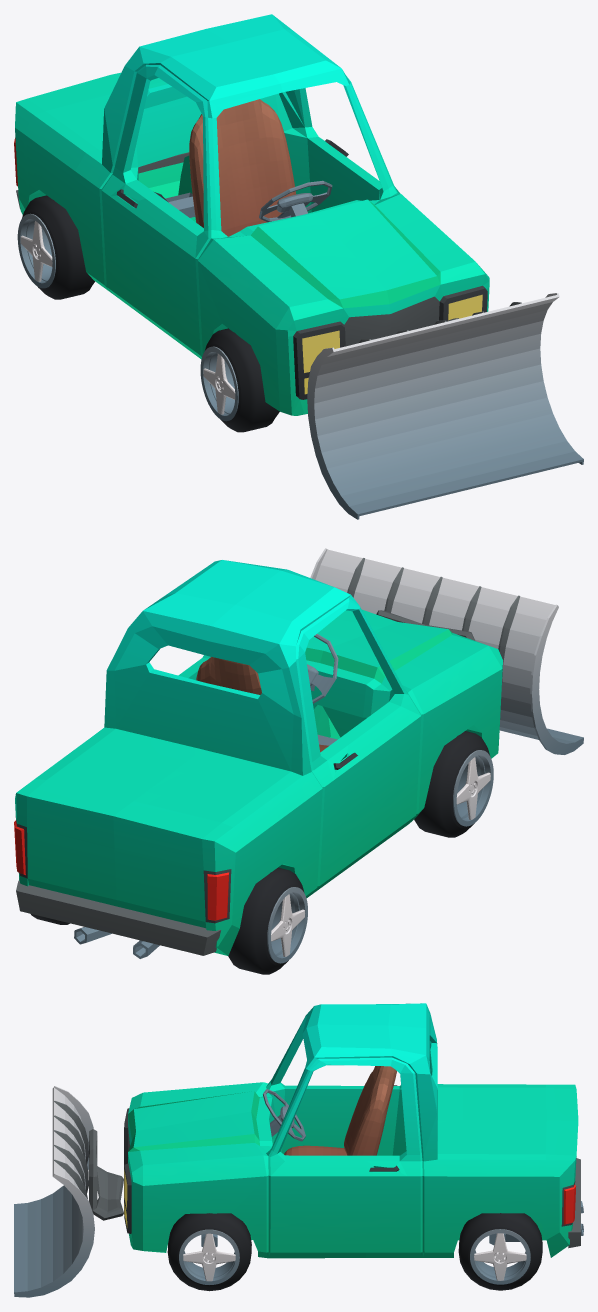
The model's file is Shoveler_Car 1.fbx.
3 renders of one model, top to bottom at view 1: azimuth 30°, elevation 25°; view 2: azimuth 150°, elevation 25°; view 3: azimuth 270°, elevation 25°, orthographic. The views are drawn at different scales.
Parts seen in each view (by area): view 1: Car.001, Shoveler.001, Wheel.013, Wheel.014; view 2: Car.001, Shoveler.001, Wheel.013, Wheel.014; view 3: Car.001, Shoveler.001, Wheel.005, Wheel.012.
Part boxes in pixels (x1,y1,x2,y2): Car.001: [14, 14, 489, 415]; Shoveler.001: [307, 293, 583, 519]; Wheel.013: [17, 195, 94, 299]; Wheel.014: [200, 328, 279, 432]; Car.001: [14, 560, 502, 958]; Shoveler.001: [310, 548, 583, 754]; Wheel.013: [228, 867, 307, 974]; Wheel.014: [414, 731, 493, 837]; Car.001: [89, 1003, 583, 1258]; Shoveler.001: [14, 1086, 94, 1297]; Wheel.005: [167, 1213, 251, 1291]; Wheel.012: [458, 1213, 542, 1290].
Bounding box in the file's own units: 199 × 219 × 502.
